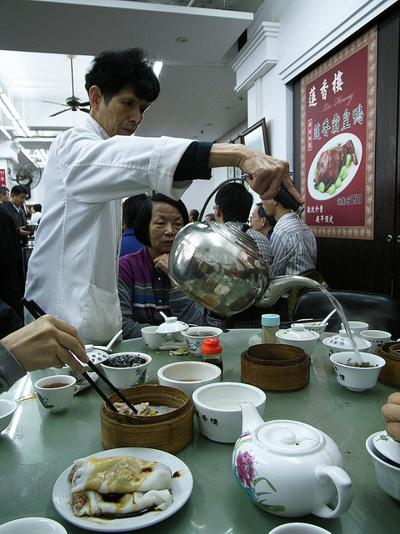person: (25, 48, 306, 344)
